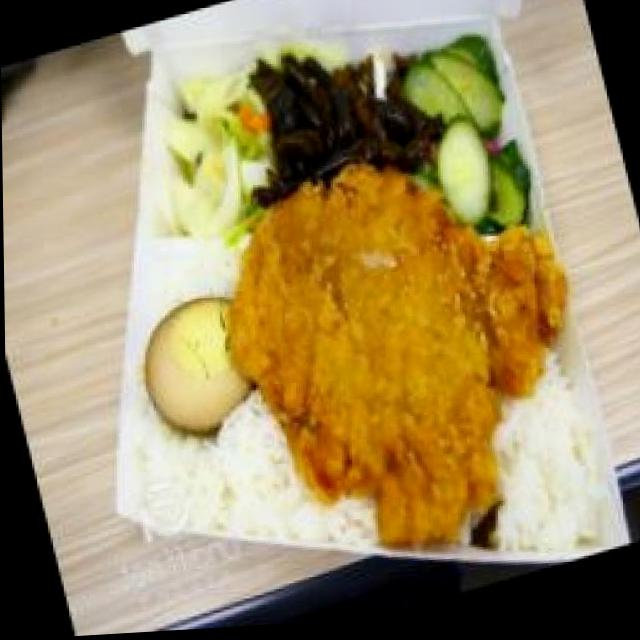fried_chicken: (202, 117, 617, 594)
rice: (500, 402, 607, 557), (183, 421, 297, 547)
